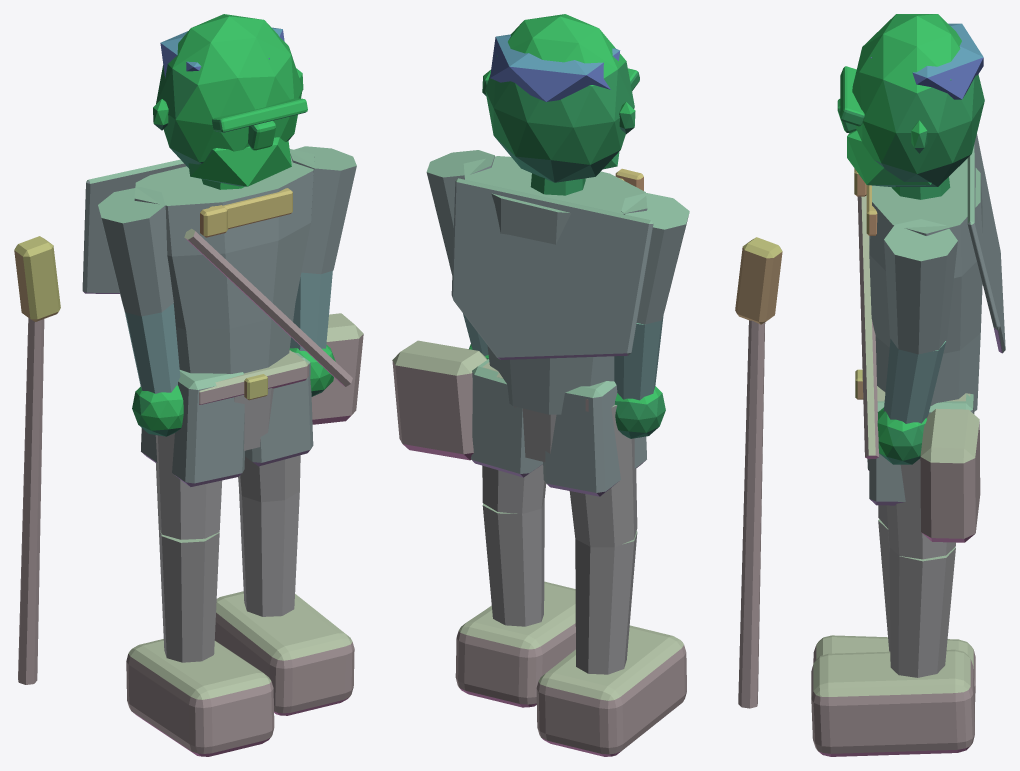
Rendered from npc_scout_up_l_v01.glb.
3 renders of one model, left to right at view 1: azimuth 30°, elevation 25°; view 2: azimuth 150°, elevation 25°; view 3: azimuth 270°, elevation 25°, orthographic. The views are drawn at different scales.
Visible parts, largest first — view 1: GEO_npc_scout_up_l_v01; view 2: GEO_npc_scout_up_l_v01; view 3: GEO_npc_scout_up_l_v01.
Part boxes in pixels (left/top/right/bottom): GEO_npc_scout_up_l_v01: left=14, top=14, right=363, bottom=756; GEO_npc_scout_up_l_v01: left=392, top=14, right=782, bottom=756; GEO_npc_scout_up_l_v01: left=811, top=14, right=1005, bottom=756.
Size of the model in its own units: 1.1 by 2.06 by 0.4961.
